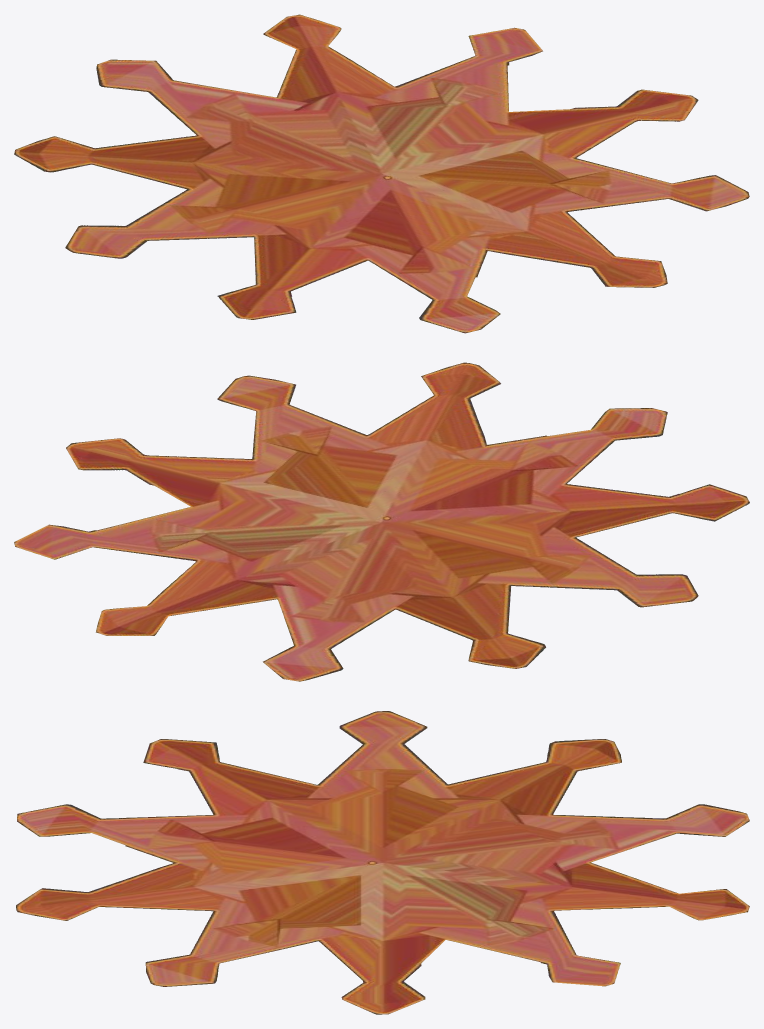
Rendered from IconoFuegoMapa.fbx.
3 renders of one model, top to bottom at view 1: azimuth 30°, elevation 25°; view 2: azimuth 150°, elevation 25°; view 3: azimuth 270°, elevation 25°, orthographic.
Visible parts, largest first — view 1: Plane; view 2: Plane; view 3: Plane.
Boxes of the visible parts, bbox=[...] form: Plane: bbox=[14, 14, 749, 333]; Plane: bbox=[14, 362, 749, 681]; Plane: bbox=[16, 711, 749, 1014].
Bounding box in the file's own units: 182 × 3.03e-05 × 186.
Materials: 1 (1 with a texture image).
